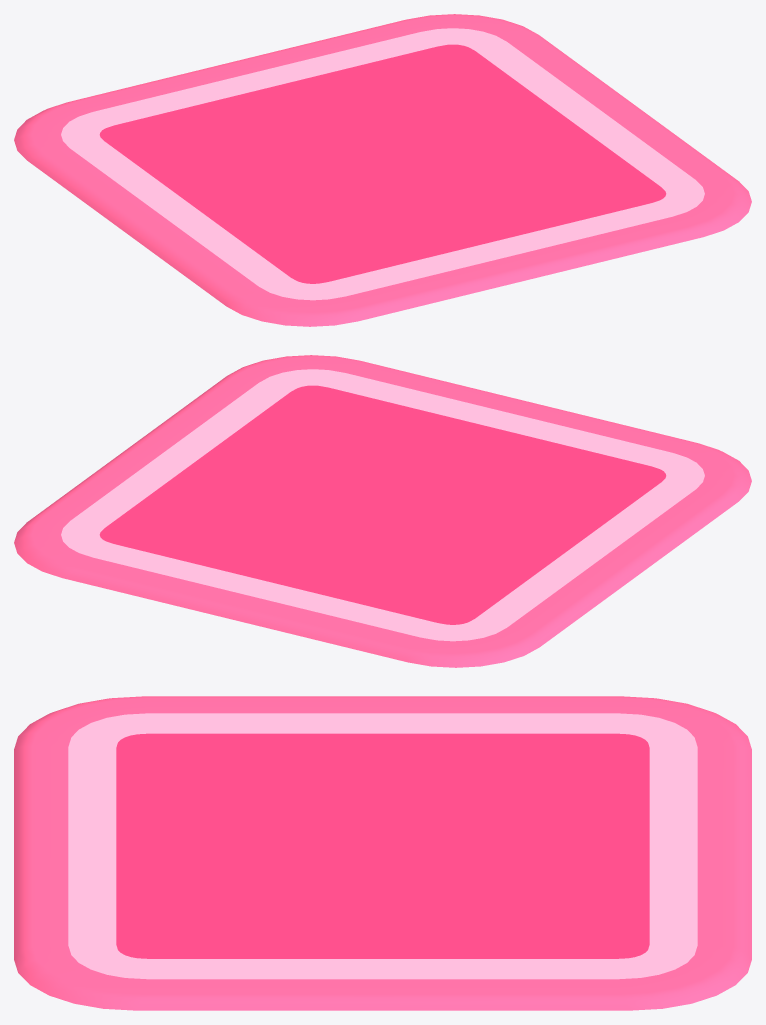
Rendered from Carpet_01.glb.
The picture shows the model from 3 angles, top to bottom: view 1: azimuth 30°, elevation 25°; view 2: azimuth 150°, elevation 25°; view 3: azimuth 270°, elevation 25°; orthographic projection. The views are drawn at different scales.
Parts seen in each view (by area): view 1: Carpet_01; view 2: Carpet_01; view 3: Carpet_01.
Boxes of the visible parts, bbox=[...] form: Carpet_01: bbox=[14, 14, 751, 326]; Carpet_01: bbox=[14, 355, 751, 667]; Carpet_01: bbox=[14, 696, 751, 1010].
Bounding box in the file's own units: 6.62 × 0.0825 × 6.62.
1 material, 1 textured.
